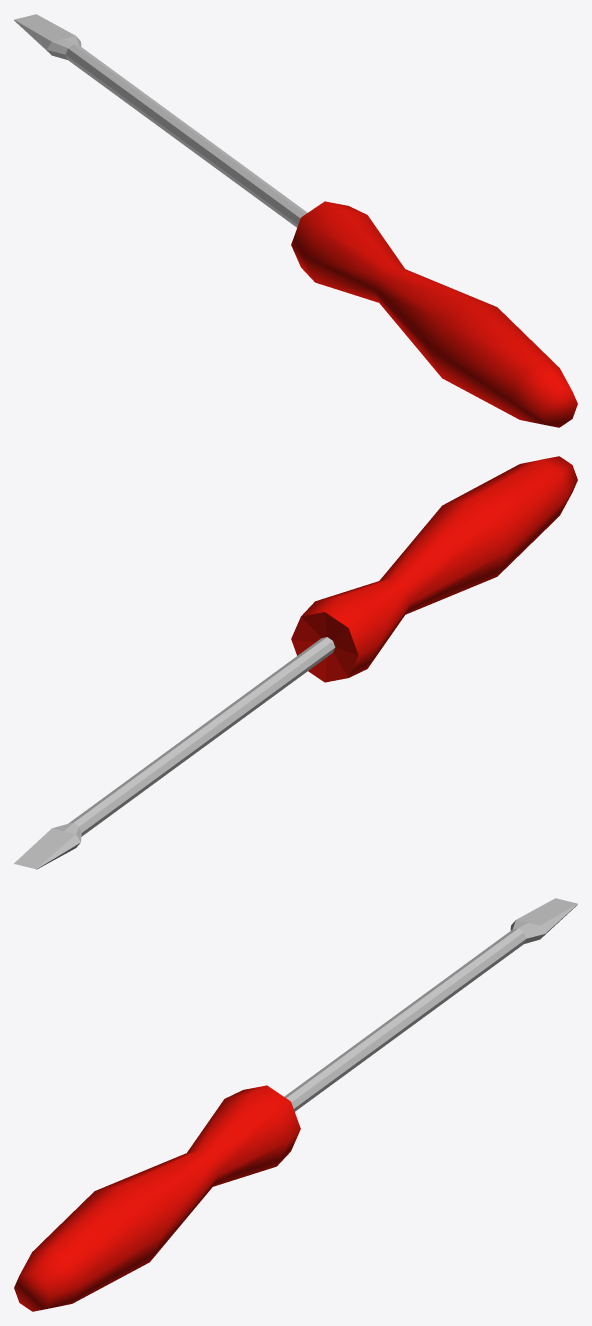
File: screwdriver.glb
3 views of the same model, one above another, from view 1: azimuth 30°, elevation 25°; view 2: azimuth 150°, elevation 25°; view 3: azimuth 330°, elevation 25° (orthographic).
Parts seen in each view (by area): view 1: Handle; view 2: Handle; view 3: Handle.
Part boxes in pixels (x1,y1,x2,y2): Handle: (14,14,577,427); Handle: (14,456,577,869); Handle: (14,898,577,1311).
Bounding box in the file's own units: 0.0421 × 0.0421 × 0.4995.
